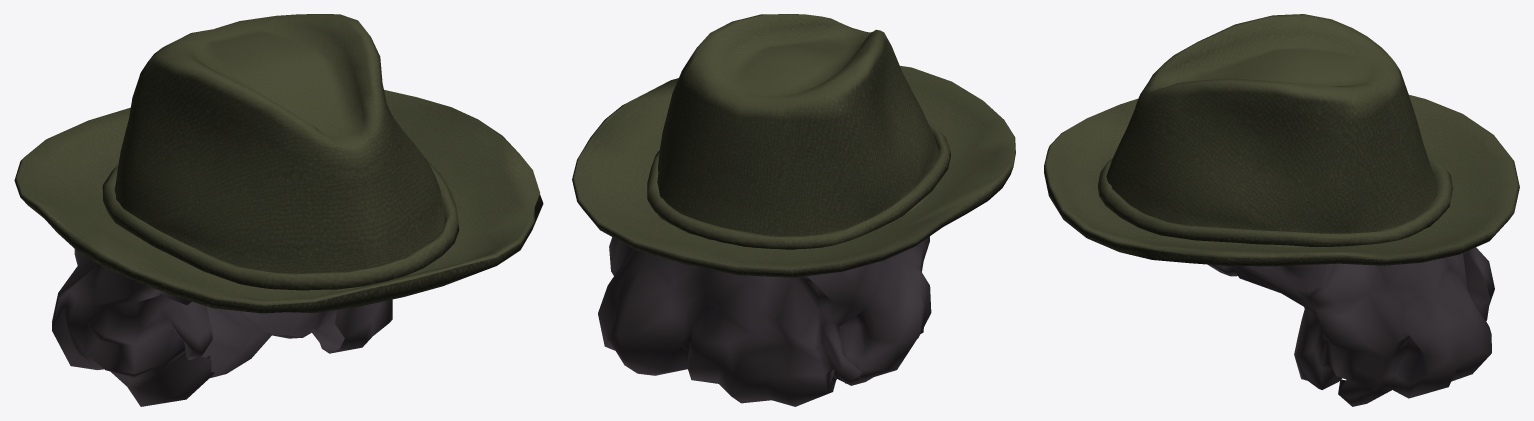
3 renders of one model, left to right at view 1: azimuth 30°, elevation 25°; view 2: azimuth 150°, elevation 25°; view 3: azimuth 270°, elevation 25°, orthographic. The views are drawn at different scales.
Parts seen in each view (by area): view 1: Wolf3D_Headwear.034; view 2: Wolf3D_Headwear.034; view 3: Wolf3D_Headwear.034.
Part boxes in pixels (left/top/right/bottom): Wolf3D_Headwear.034: left=14, top=14, right=543, bottom=406; Wolf3D_Headwear.034: left=572, top=14, right=1015, bottom=406; Wolf3D_Headwear.034: left=1044, top=14, right=1519, bottom=406.
Size of the model in its own units: 0.3069 by 0.2483 by 0.3367.
1 material, 1 textured.
